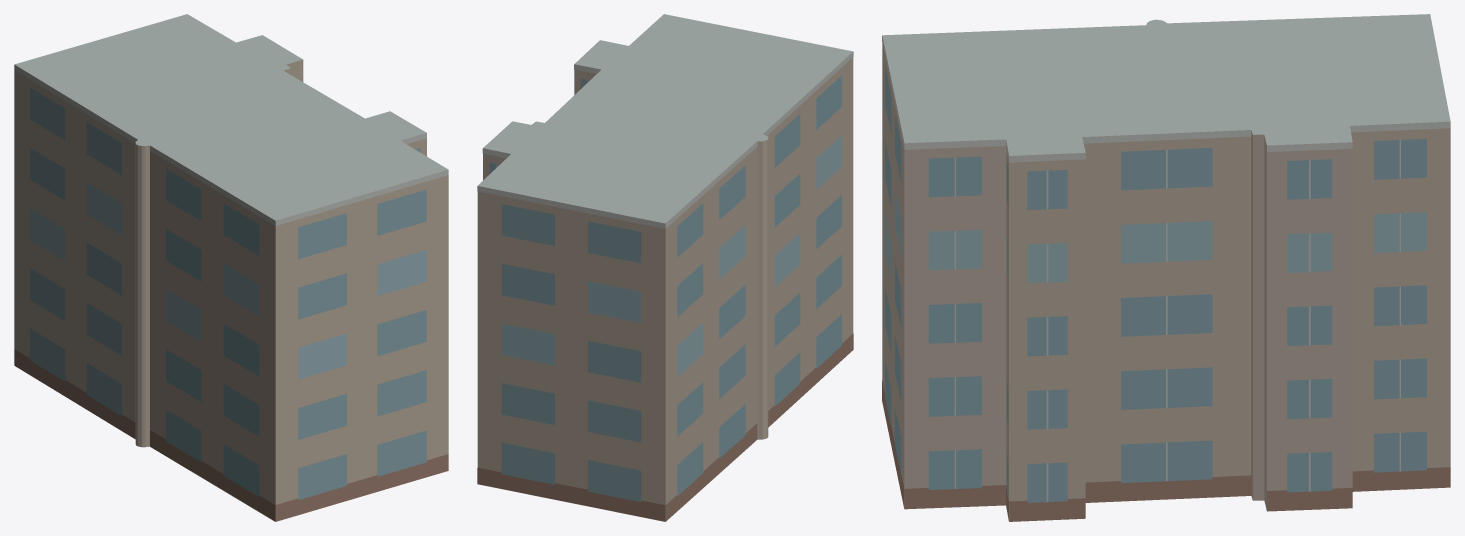
File: survey-upis-32529728.glb
3 renders of one model, left to right at view 1: azimuth 30°, elevation 25°; view 2: azimuth 150°, elevation 25°; view 3: azimuth 270°, elevation 25°, orthographic. The views are drawn at different scales.
Parts seen in each view (by area): view 1: survey-upis-32529728.tmp; view 2: survey-upis-32529728.tmp; view 3: survey-upis-32529728.tmp.
Boxes of the visible parts, bbox=[...] form: survey-upis-32529728.tmp: bbox=[14, 14, 448, 521]; survey-upis-32529728.tmp: bbox=[477, 14, 853, 521]; survey-upis-32529728.tmp: bbox=[882, 14, 1450, 521].
Bounding box in the file's own units: 11.28 × 13.55 × 19.09.
